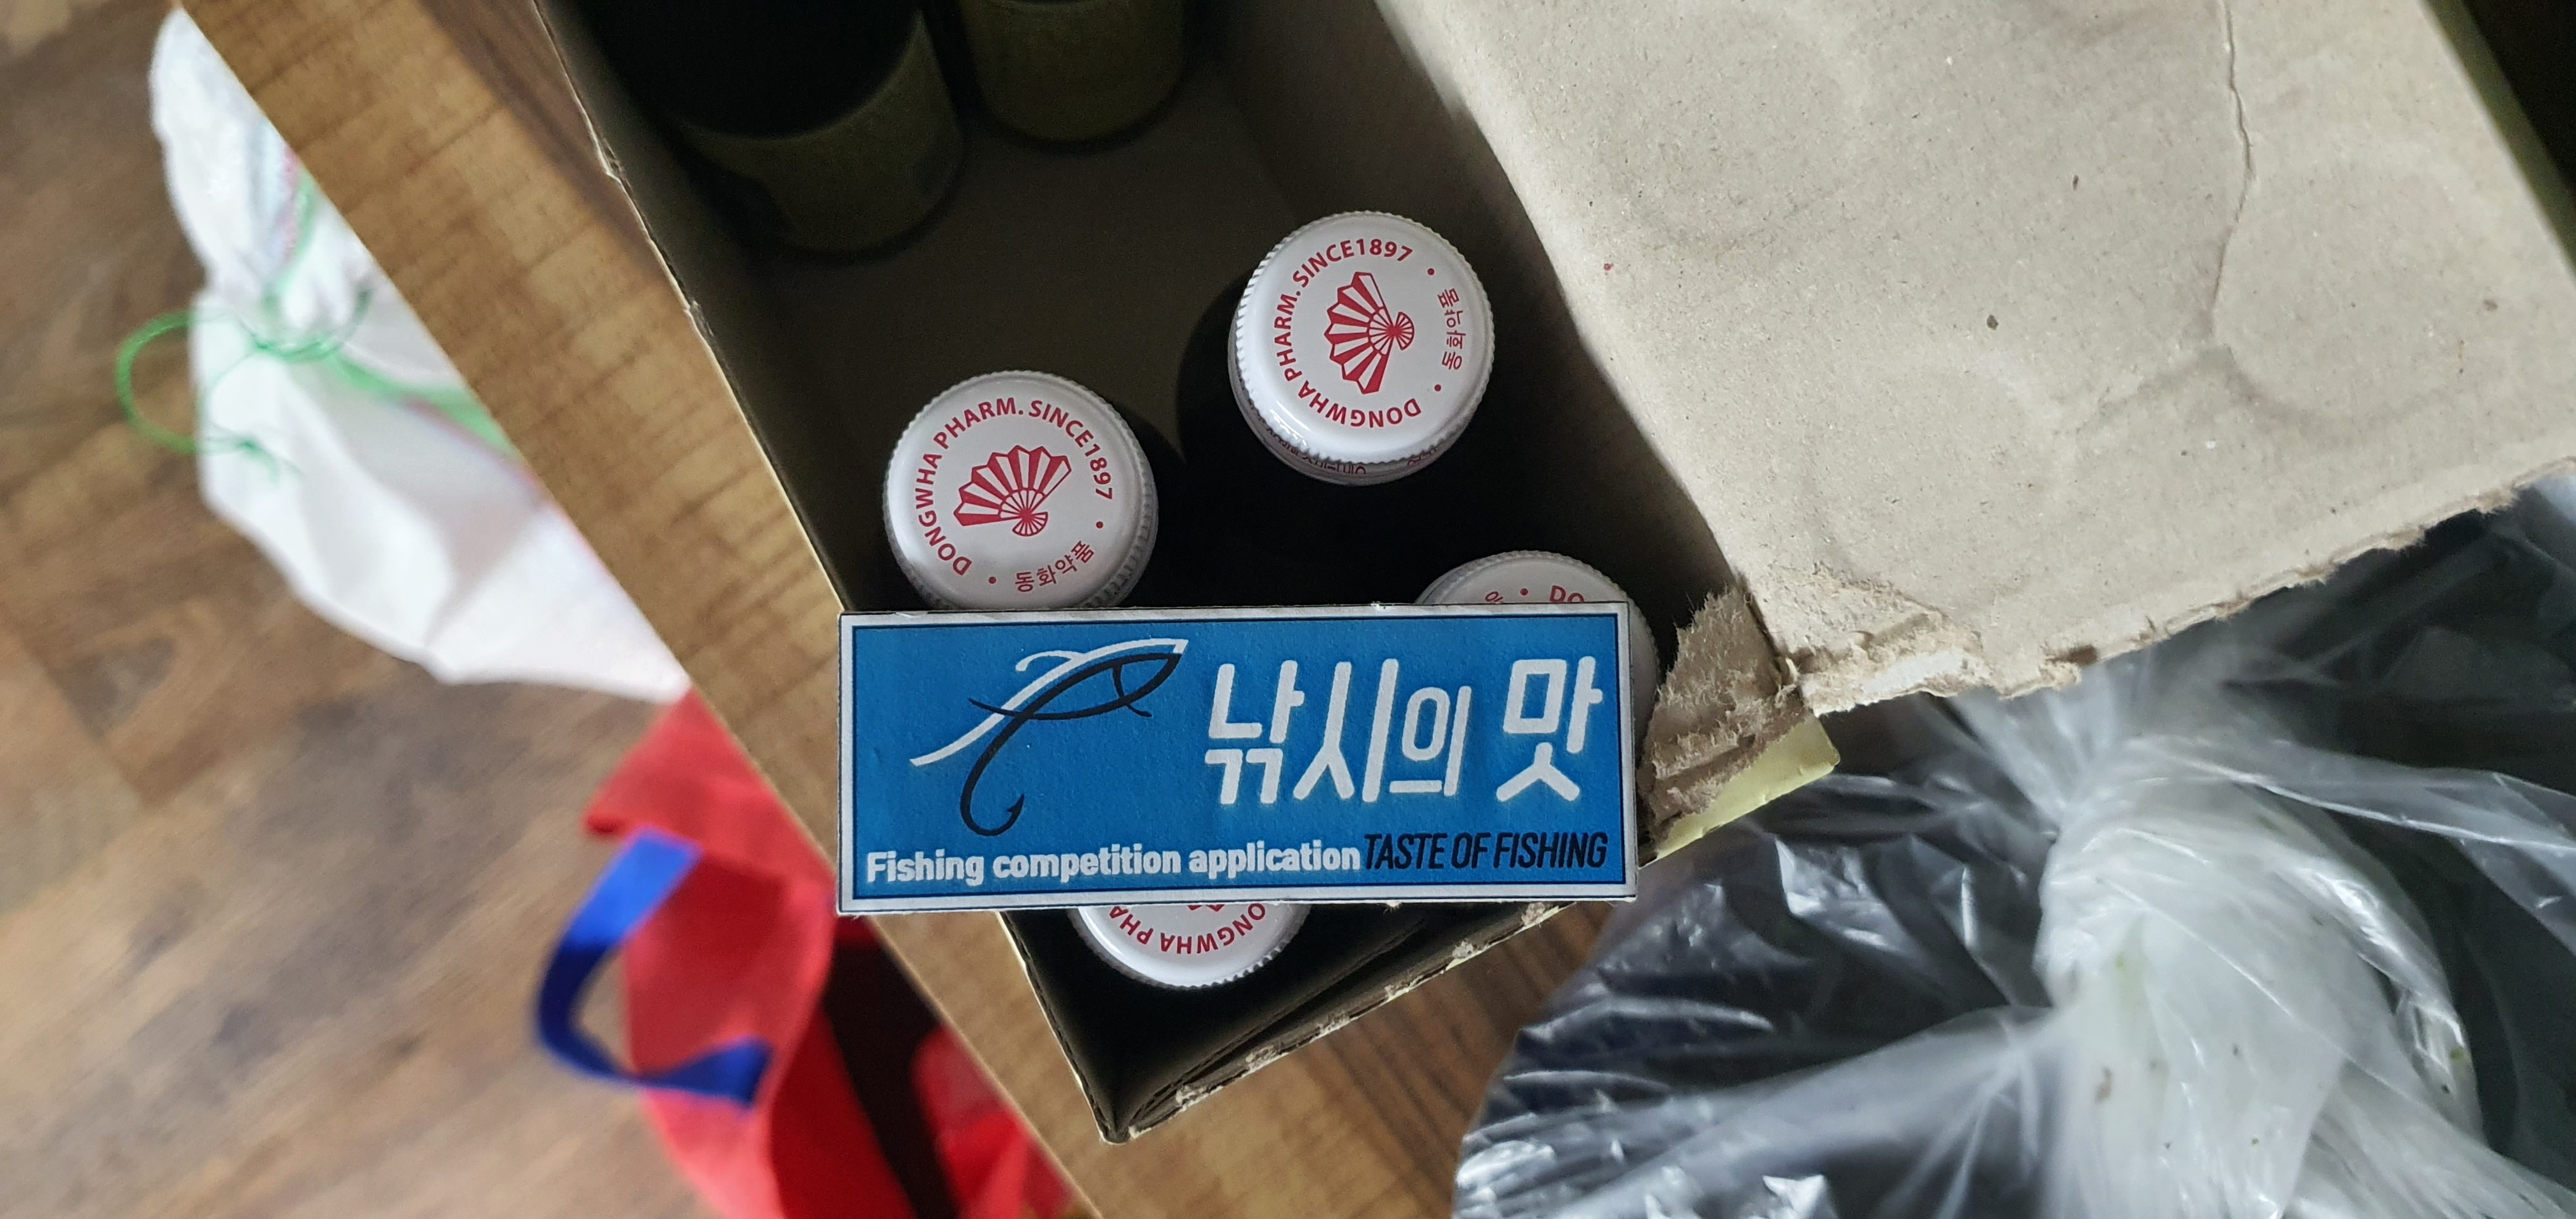tag: (836, 613, 1641, 905)
